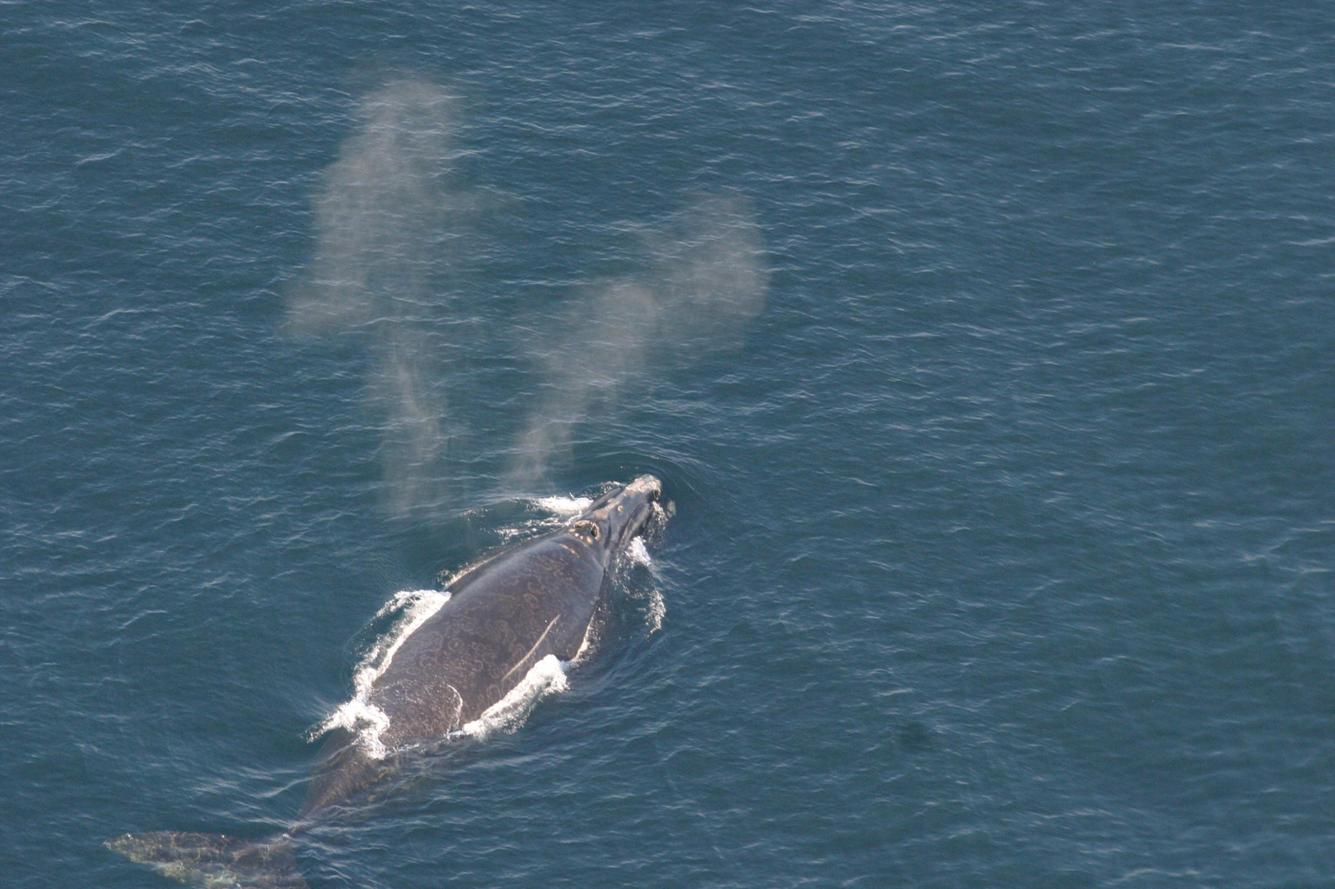whale: (95, 467, 684, 889)
